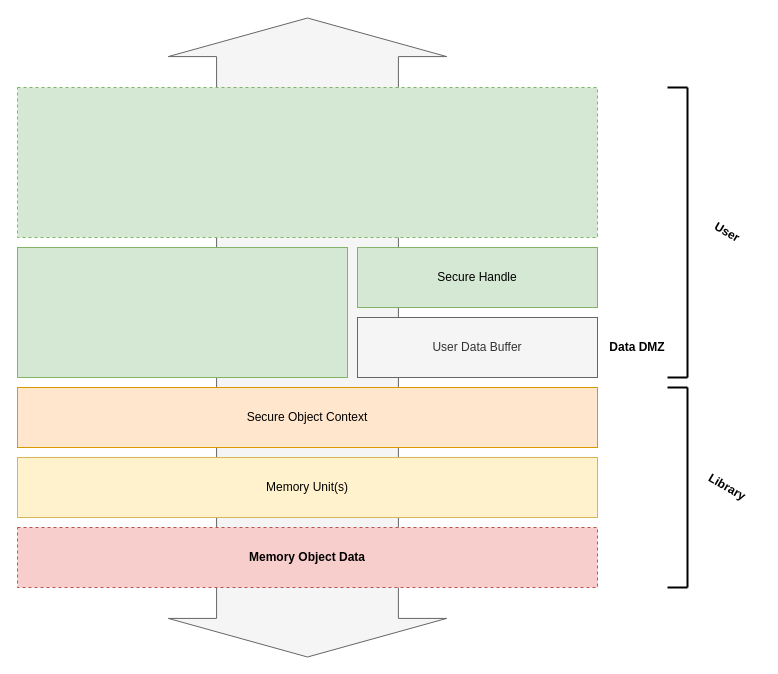
This 778x674 diagram has some shape labels left out. The centre of each missing label's shape, as x and y in pixels:
"Interface" belongs at point (182, 312).
"User / Variable" belongs at point (307, 162).
